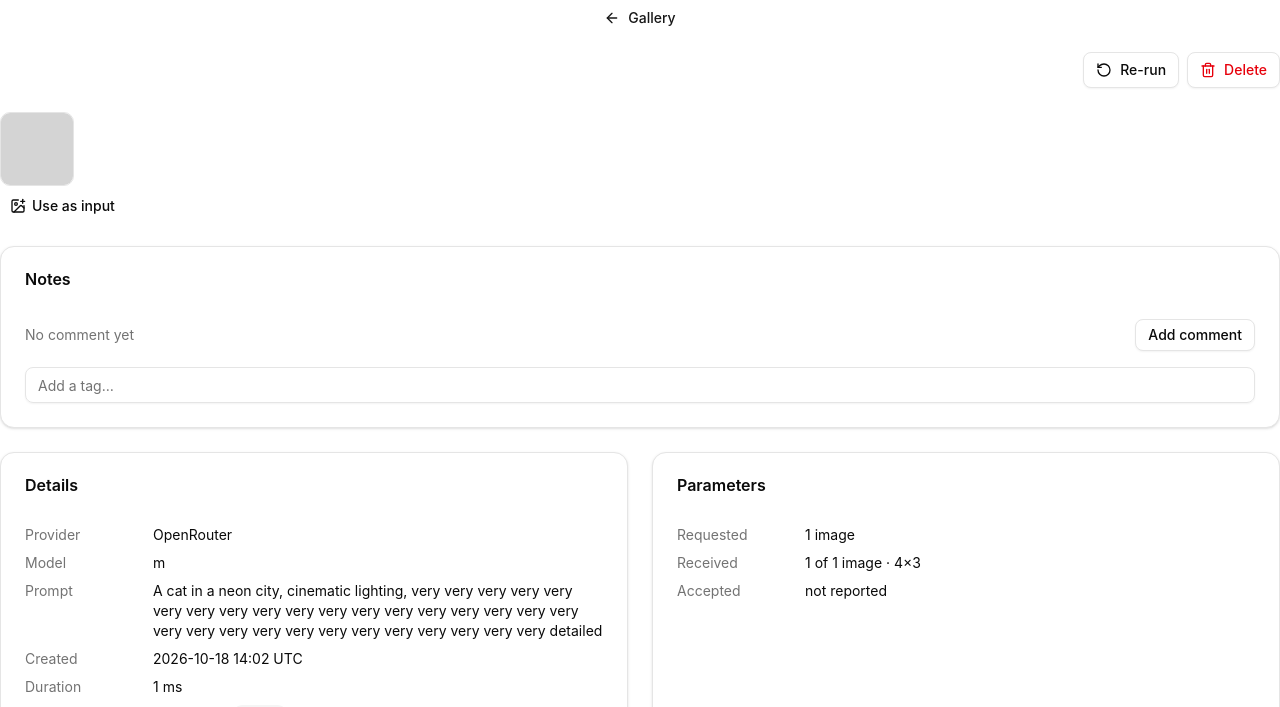
Delete a generation (SCR-03) › says it no longer exists when it was deleted elsewhere
Click the button "Delete": (1234, 70) x1=1187 y1=52 x2=1279 y2=88
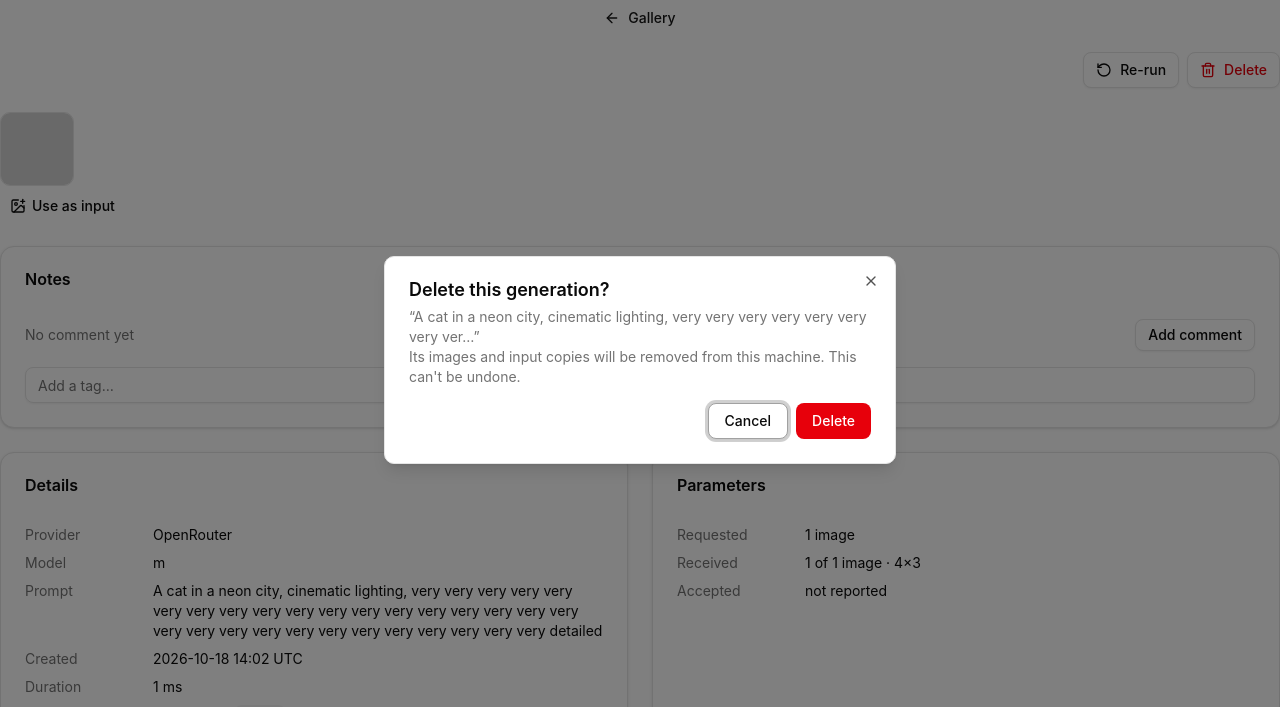
Click the button with aria-label "Delete generation": (834, 421) x1=796 y1=403 x2=871 y2=439
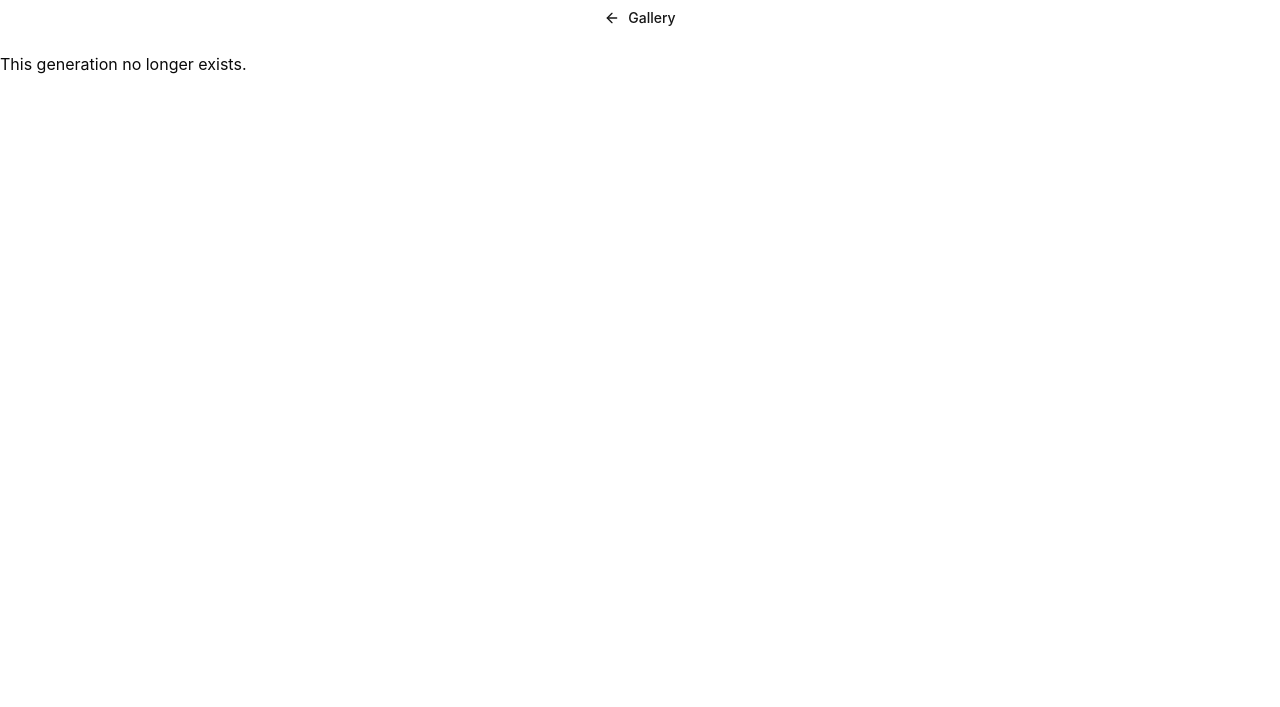
expect the text "This generation no longer exists." is shown: met, box x1=0 y1=54 x2=246 y2=74
